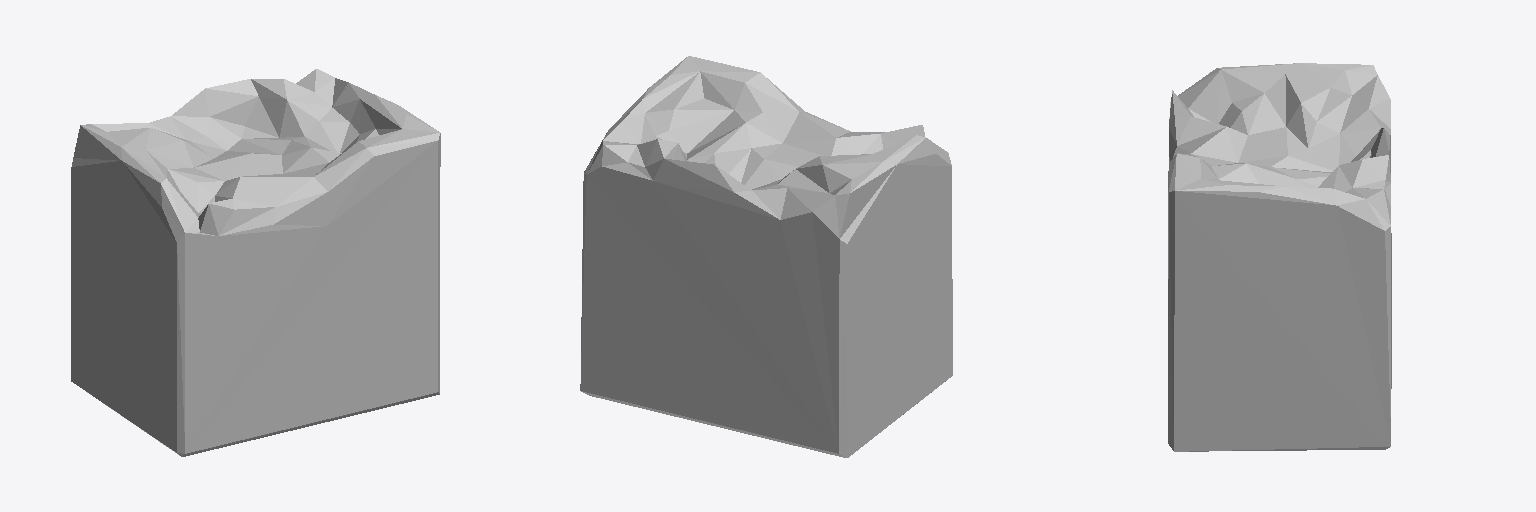
3 renders of one model, left to right at view 1: azimuth 30°, elevation 25°; view 2: azimuth 150°, elevation 25°; view 3: azimuth 270°, elevation 25°, orthographic.
Parts seen in each view (by area): view 1: Liquid_Domain; view 2: Liquid_Domain; view 3: Liquid_Domain.
Part boxes in pixels (left/top/right/bottom): Liquid_Domain: left=71, top=69, right=440, bottom=456; Liquid_Domain: left=580, top=56, right=952, bottom=457; Liquid_Domain: left=1168, top=63, right=1391, bottom=451.
Bounding box in the file's own units: 16.97 × 16.22 × 12.43.